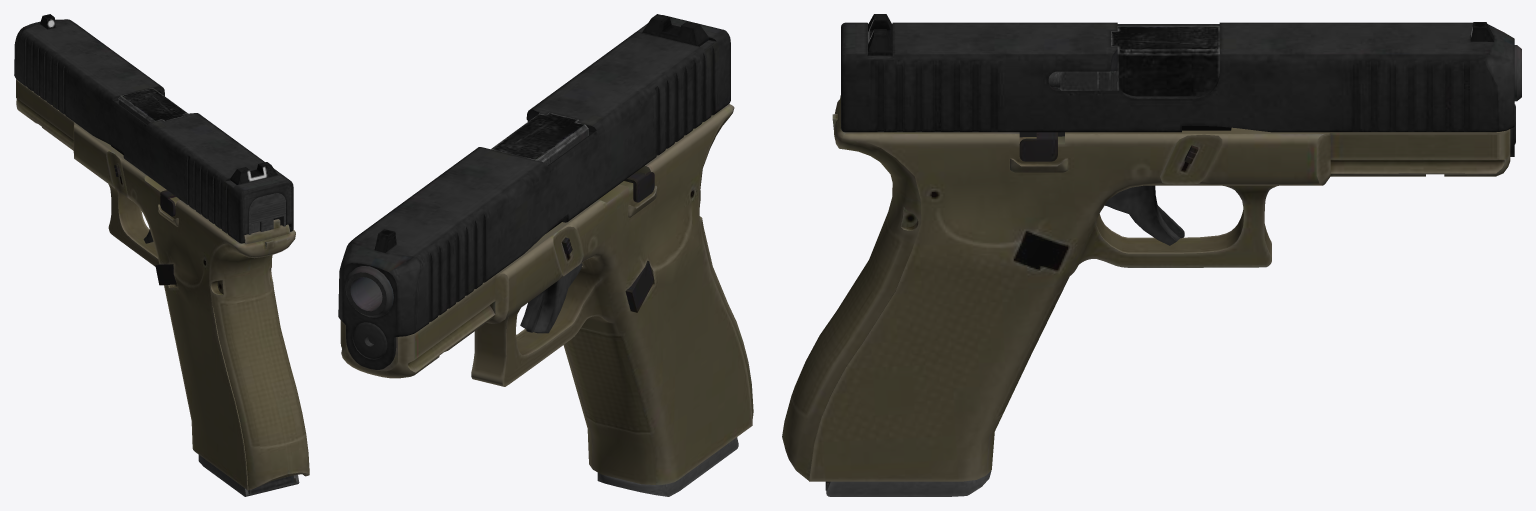
The model's file is glock.glb.
3 views of the same model, side by side, from view 1: azimuth 30°, elevation 25°; view 2: azimuth 150°, elevation 25°; view 3: azimuth 270°, elevation 25° (orthographic). The views are drawn at different scales.
Visible parts, largest first — view 1: Loder_001_Low; view 2: Loder_001_Low; view 3: Loder_001_Low.
Boxes of the visible parts, x1=… form: Loder_001_Low: x1=14, y1=14, x2=309, y2=496; Loder_001_Low: x1=338, y1=14, x2=753, y2=496; Loder_001_Low: x1=782, y1=14, x2=1521, y2=496.
Bounding box in the file's own units: 0.0308 × 0.1363 × 0.2016.
2 materials, 2 textured.
